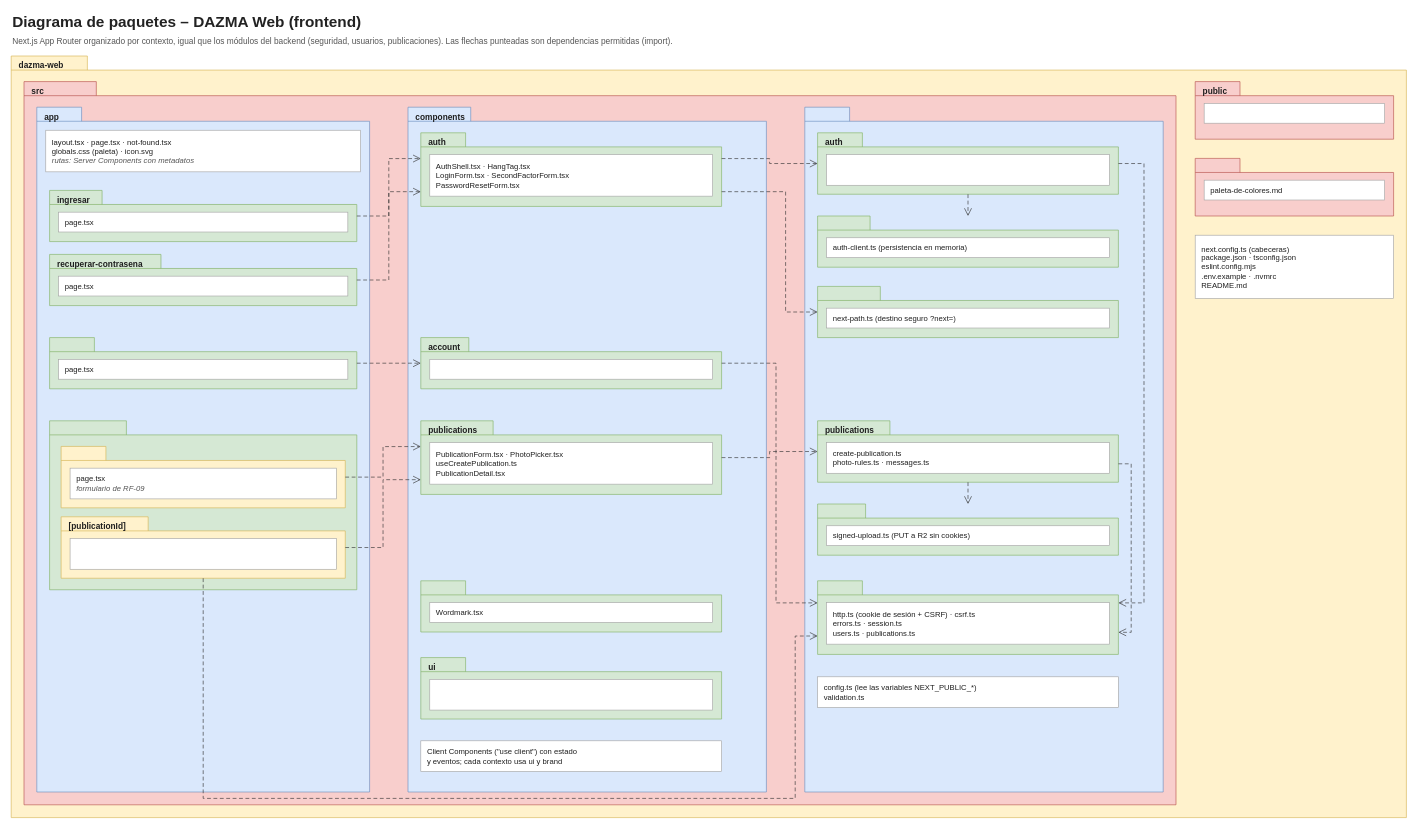
Image size: 1418x829. Some labels were removed from this diagram. The shapes that lost their labels are listed below. From the top down, each one's box as (x1, y1, x2, y2) in pixels, then its label:
(1204, 103, 1385, 123): recursos estáticos
(826, 154, 1109, 185): sign-in.ts · password-reset.ts messages.ts · errors.ts
(1195, 158, 1394, 216): docs
(817, 215, 1118, 267): firebase
(817, 286, 1118, 338): navigation
(49, 337, 357, 389): cuenta
(429, 359, 713, 379): AccountView.tsx
(804, 107, 1163, 792): lib
(60, 446, 345, 508): nueva
(49, 420, 357, 590): publicaciones
(817, 503, 1118, 555): storage
(69, 538, 336, 569): page.tsx detalle público renderizado en el servidor
(420, 580, 722, 632): brand
(817, 580, 1118, 654): api
(429, 679, 713, 710): Button.tsx · TextField.tsx · PasswordField.tsx Alert.tsx · icons.tsx
